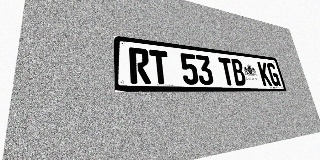3: (195, 55, 214, 85)
5: (180, 53, 200, 85)
B: (230, 58, 247, 86)
G: (266, 63, 281, 86)
K: (257, 62, 272, 86)
R: (129, 47, 151, 84)
T: (149, 49, 170, 84), (218, 57, 236, 85)
